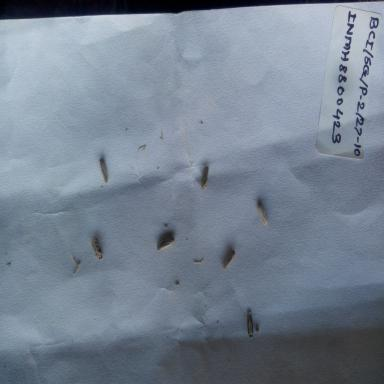pbw: (86, 150, 111, 184), (196, 160, 214, 193), (87, 232, 105, 264), (220, 246, 238, 272), (255, 198, 270, 229), (244, 307, 258, 340), (156, 232, 176, 254)
